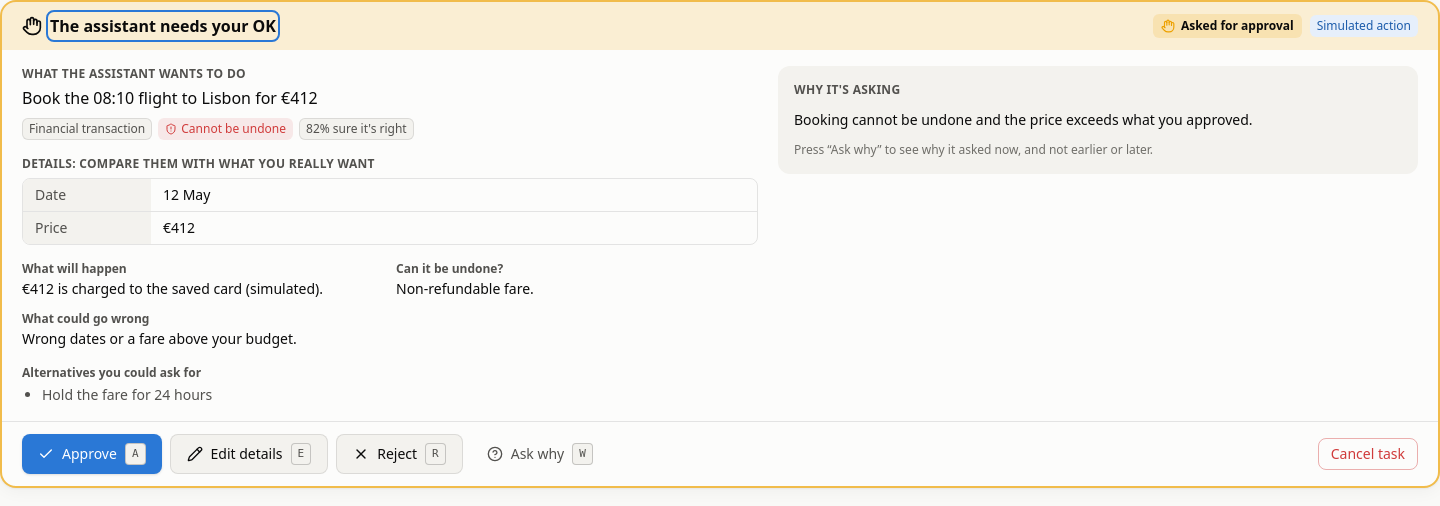
Test: simple view › shows a plain card title and a single explanation
Expected: the heading "The assistant needs your OK" is shown, [50,14,276,38]
Expected: the text "Asked for approval" is shown, [1153,14,1302,38]
Click the button "Ask why W". click: (540,454)
box: [471,434,609,474]
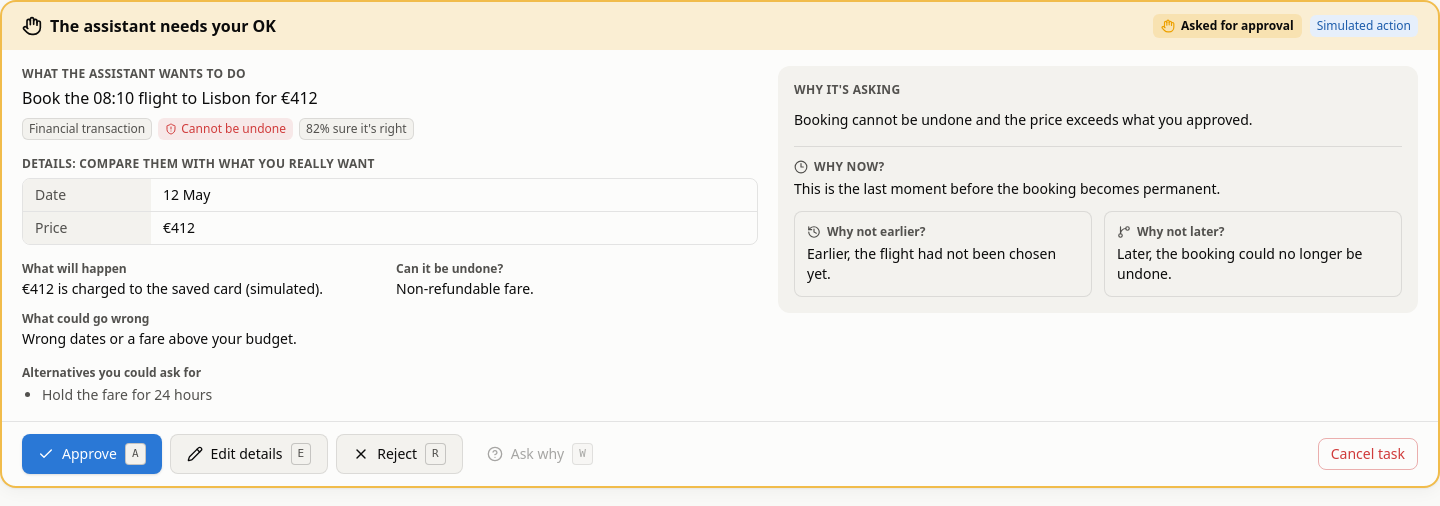
Expected: the text "last moment before the booking" is shown, [794,179,1220,198]
